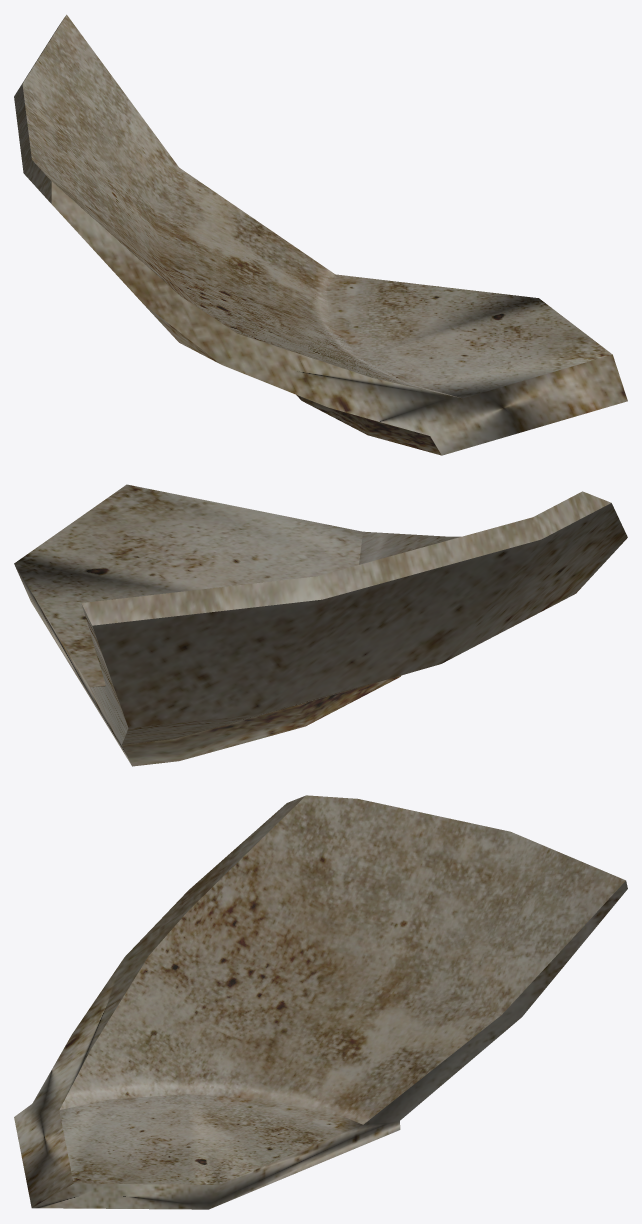
Rendered from PlateDeepShardF.fbx.
3 views of the same model, one above another, from view 1: azimuth 30°, elevation 25°; view 2: azimuth 150°, elevation 25°; view 3: azimuth 270°, elevation 25° (orthographic). The views are drawn at different scales.
Parts seen in each view (by area): view 1: Default_Layer; view 2: Default_Layer; view 3: Default_Layer.
Boxes of the visible parts, x1=… form: Default_Layer: x1=14, y1=14, x2=627, y2=455; Default_Layer: x1=14, y1=484, x2=627, y2=766; Default_Layer: x1=14, y1=795, x2=627, y2=1209.
Bounding box in the file's own units: 36.87 × 17.18 × 45.34.
